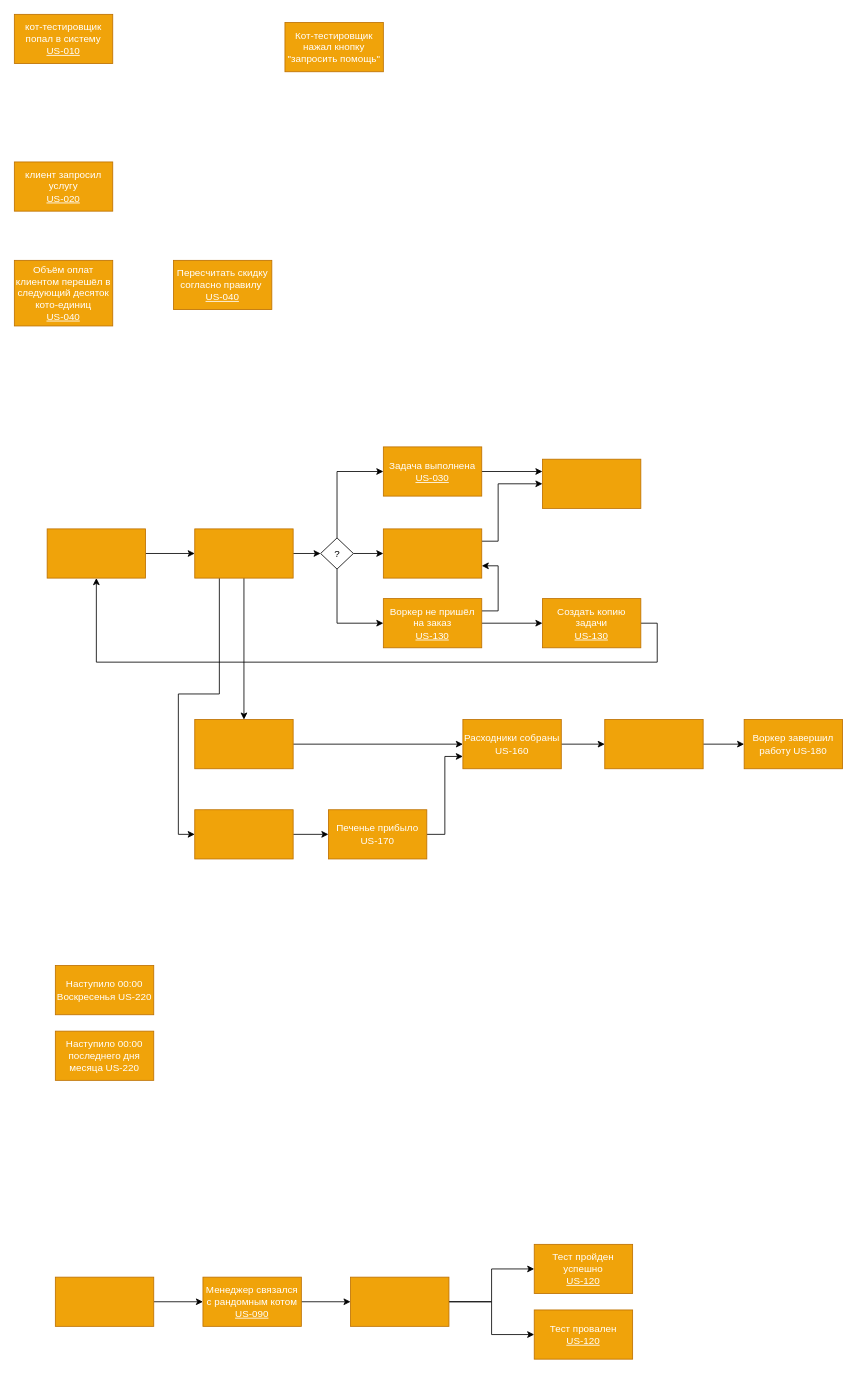
Some shapes in this 857 by 1374 pixel diagram are drawn without their labels. Each missing label, with the centre of its shape:
Воркер назначен: pixel 243 553
Воркер приступил к работе US-180: pixel 653 744
Выставлен счёт пользователю US-030: pixel 591 483
Задача провалена US-030: pixel 432 553
Подана заявка на печенье US-170: pixel 243 834
Поступила заявка от рандомного кота US-080: pixel 104 1301
Создана заявка на работу: pixel 96 553
Сформирован список расходников US-150: pixel 243 744
Тест для рандомного кота назначен US-090: pixel 399 1301
